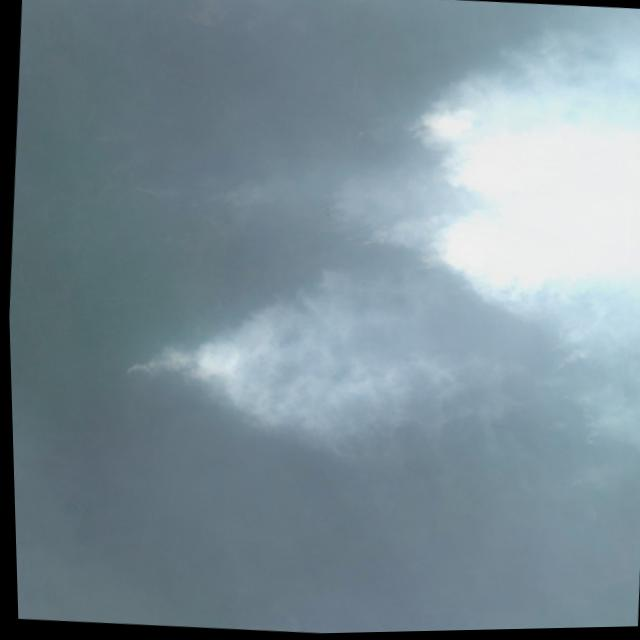fire: (323, 204, 448, 262), (112, 336, 219, 390)
